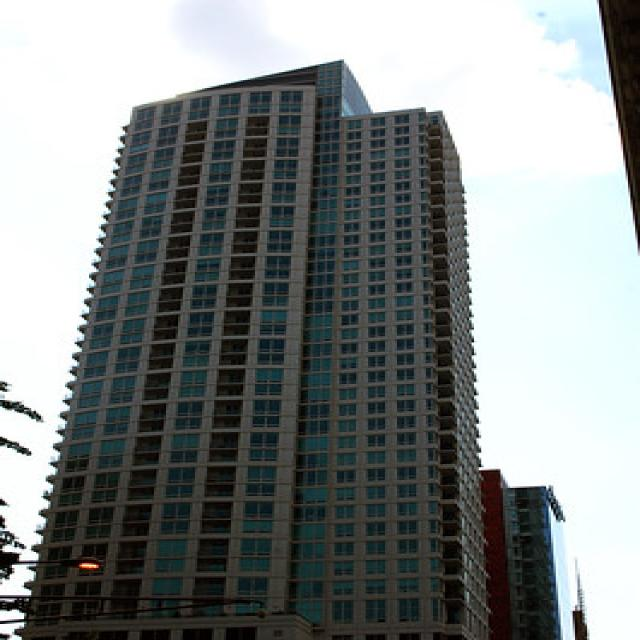building: (17, 54, 503, 640)
